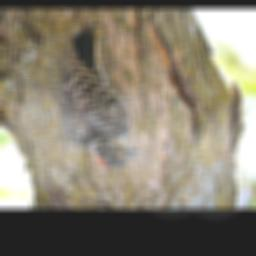Woodpecker: (65, 22, 141, 169)
